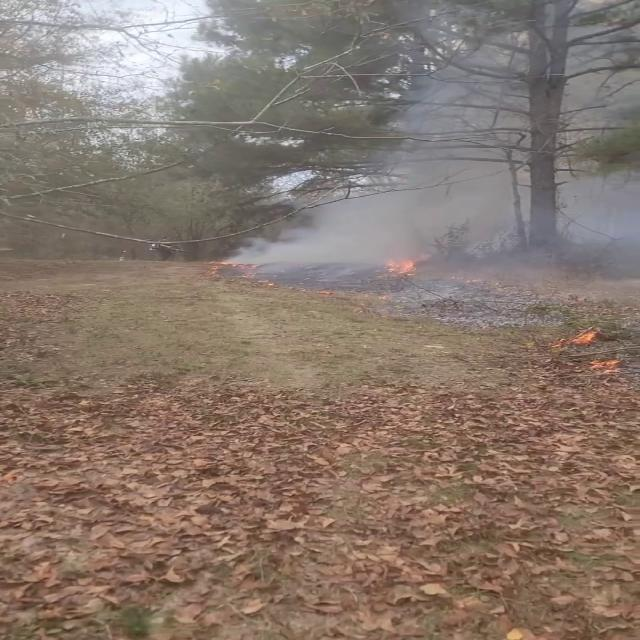Fire: (380, 252, 421, 279)
Smoke: (228, 10, 640, 303)
